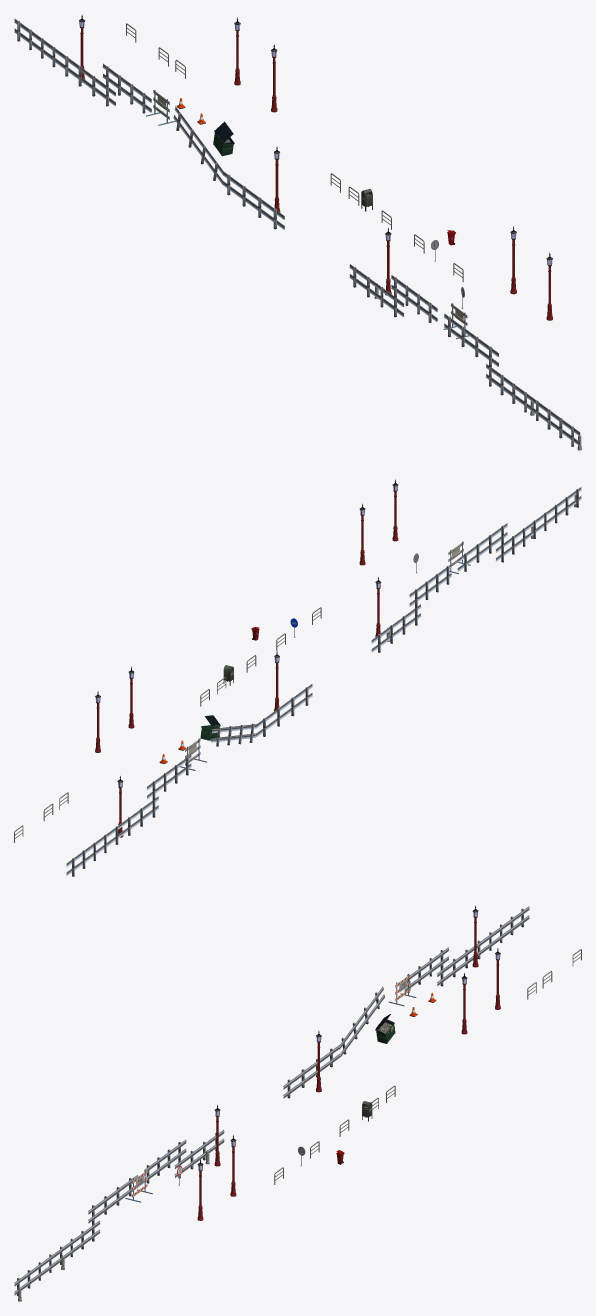
The model's file is Pole03.fbx.
3 renders of one model, top to bottom at view 1: azimuth 30°, elevation 25°; view 2: azimuth 150°, elevation 25°; view 3: azimuth 330°, elevation 25°, orthographic. The views are drawn at different scales.
Parts seen in each view (by area): view 1: MeshBaker__11__mesh_mesh; view 2: MeshBaker__11__mesh_mesh; view 3: MeshBaker__11__mesh_mesh.
Part boxes in pixels (x1,y1,x2,y2): MeshBaker__11__mesh_mesh: (14, 14, 581, 450); MeshBaker__11__mesh_mesh: (14, 479, 581, 876); MeshBaker__11__mesh_mesh: (14, 905, 581, 1301).
Size of the model in its own units: 872 by 628 by 6916.
2 materials, 2 textured.
